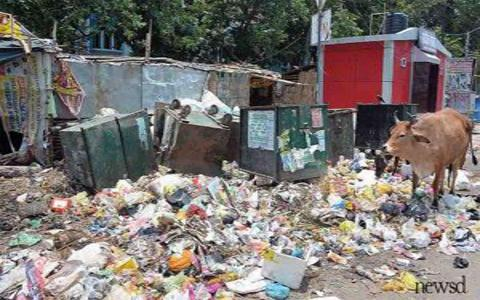overflowing garbage: (60, 110, 159, 283), (238, 103, 329, 258)
